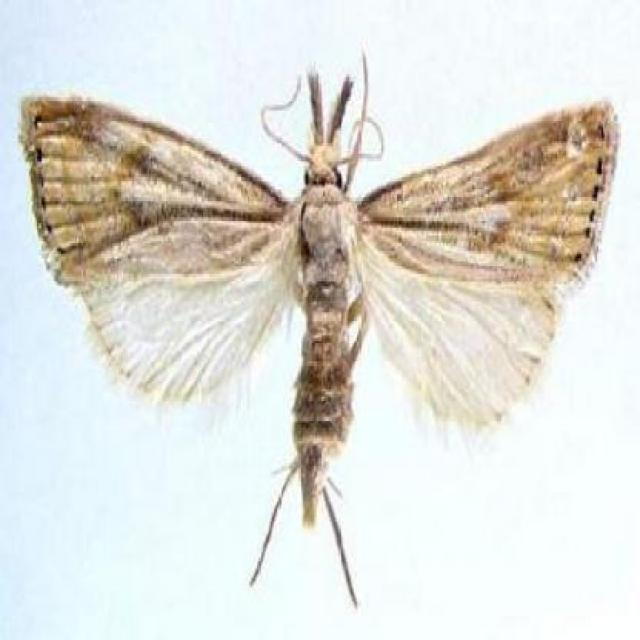stem-borer: (17, 46, 620, 611)
